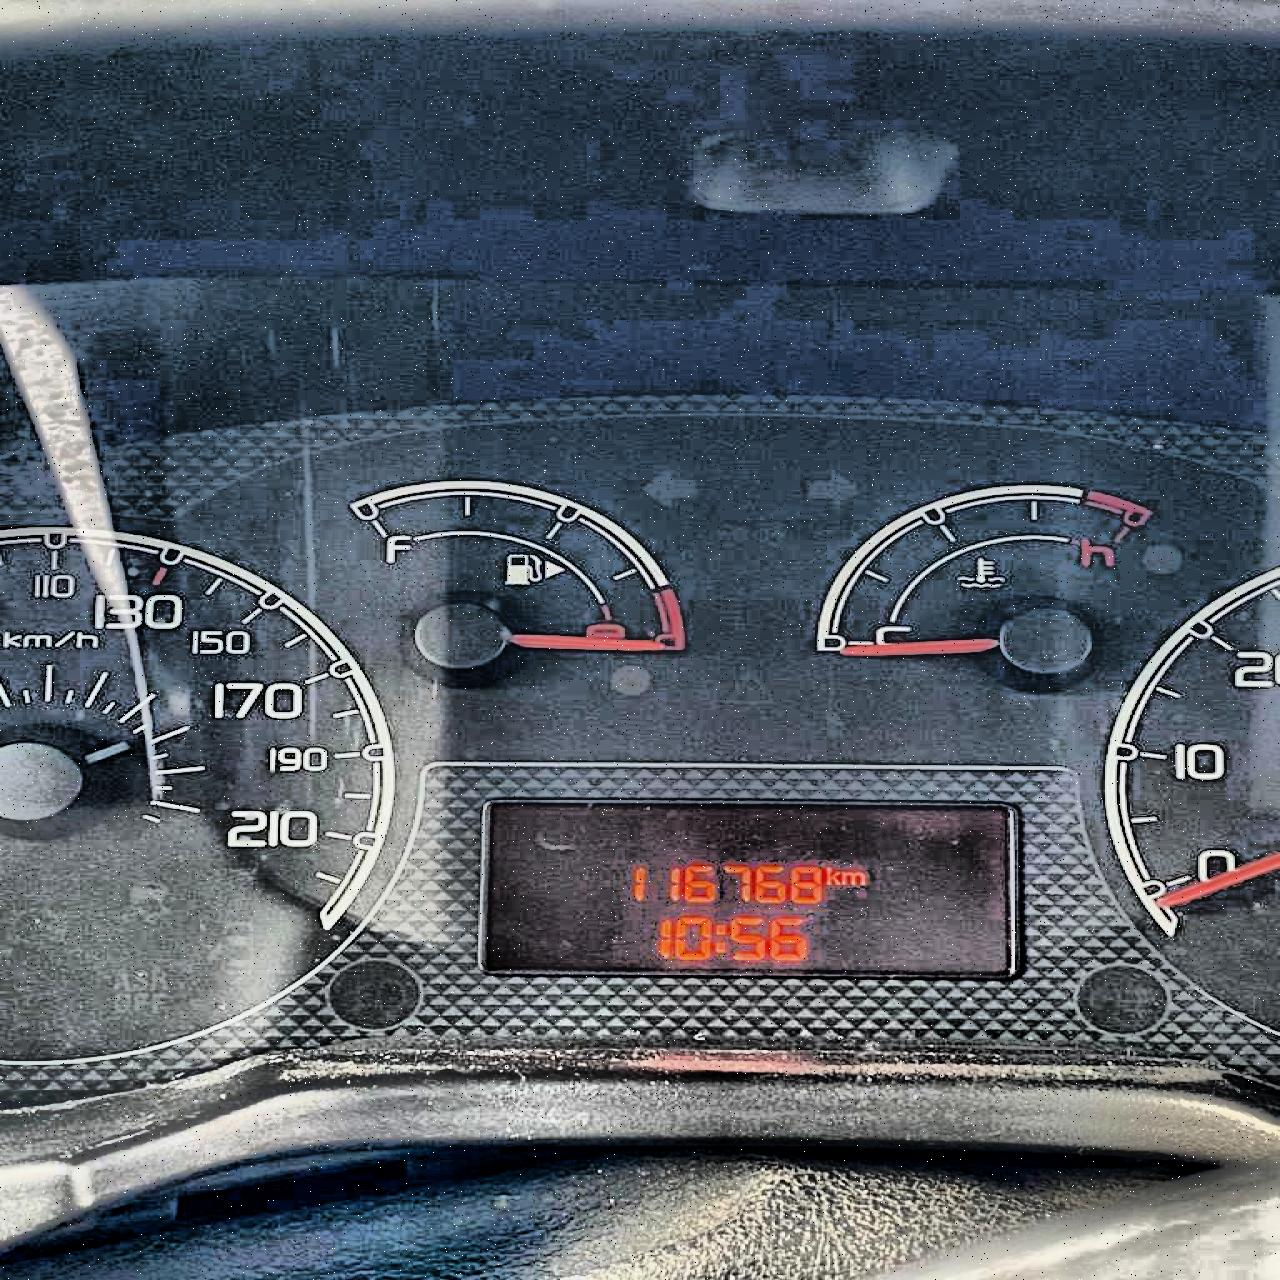0: (675, 914, 710, 961)
1: (629, 862, 648, 904), (656, 915, 672, 961), (666, 863, 682, 903)
5: (730, 913, 765, 962)
6: (767, 915, 809, 962), (683, 862, 716, 903), (754, 862, 784, 905)
7: (720, 862, 751, 905)
8: (788, 863, 822, 904)
X: (712, 921, 727, 955), (840, 869, 866, 886), (825, 864, 840, 886)
odometer: (474, 789, 1042, 982)
